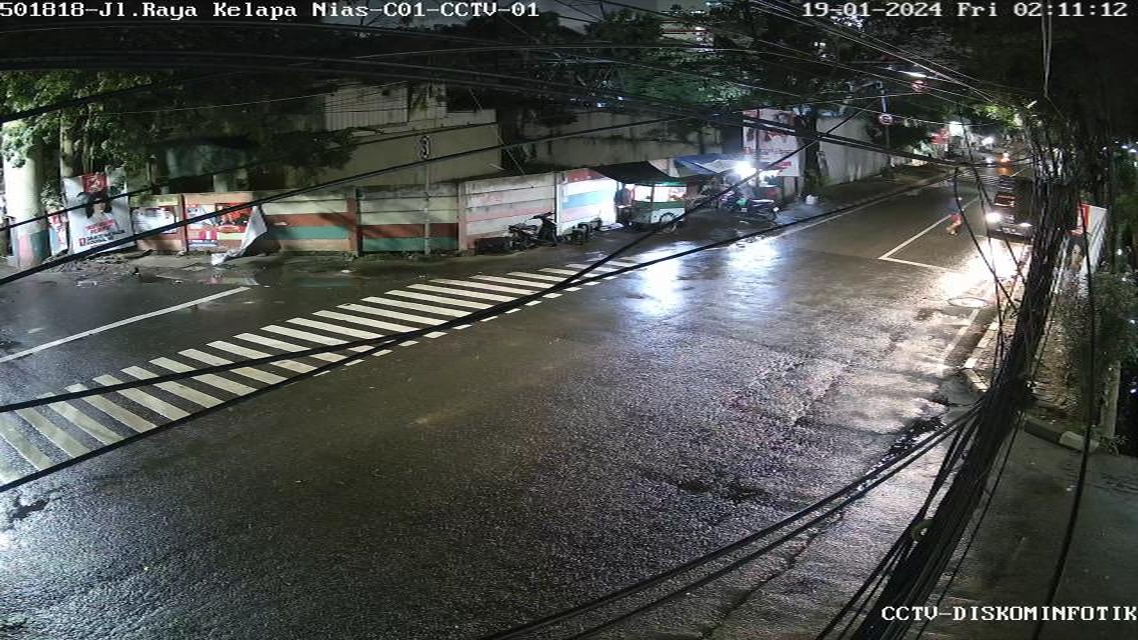Gerobak: (613, 178, 693, 229)
